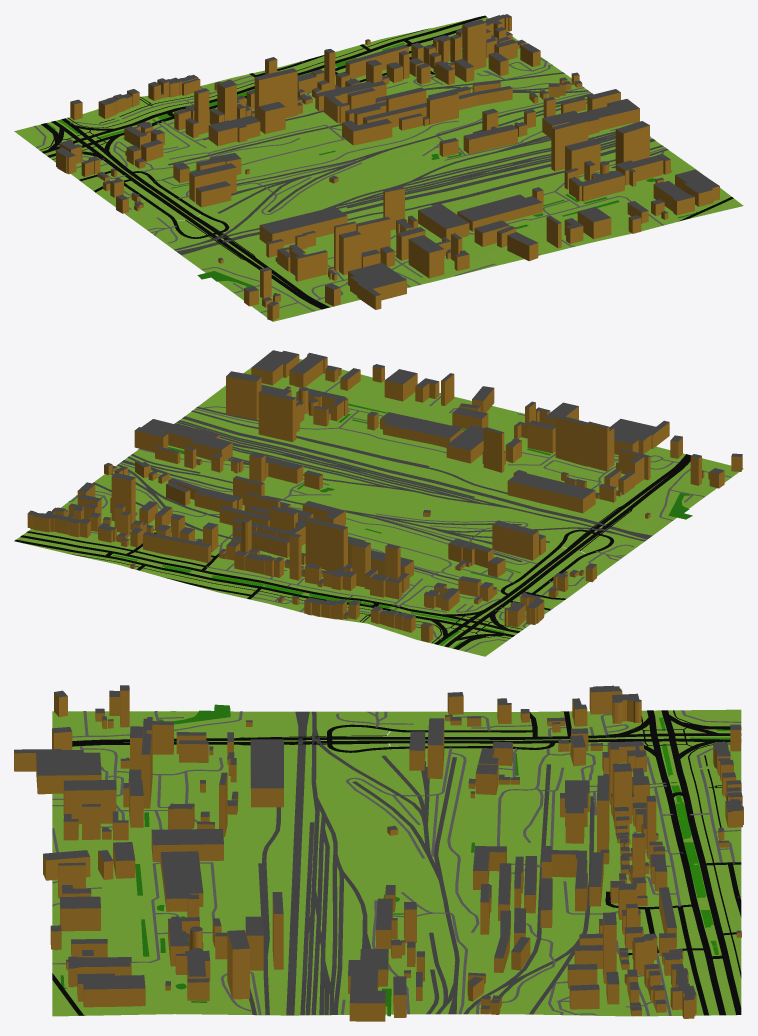
File: tile_01_03.glb
3 views of the same model, one above another, from view 1: azimuth 30°, elevation 25°; view 2: azimuth 150°, elevation 25°; view 3: azimuth 270°, elevation 25° (orthographic). The views are drawn at different scales.
Parts seen in each view (by area): view 1: Ub_small.osm_buildings_01_03, Terrain_01_03, Ub_small.osm_railways_01_03, Ub_small.osm_roads_service_01_03, Ub_small.osm_roads_primary_01_03, Ub_small.osm_roads_trunk_01_03, Ub_small.osm_roads_residential_01_03, Ub_small.osm_paths_footway_01_03, Ub_small.osm_forest_01_03; view 2: Ub_small.osm_buildings_01_03, Terrain_01_03, Ub_small.osm_railways_01_03, Ub_small.osm_roads_service_01_03, Ub_small.osm_roads_trunk_01_03, Ub_small.osm_roads_primary_01_03, Ub_small.osm_roads_residential_01_03, Ub_small.osm_vegetation_01_03, Ub_small.osm_paths_footway_01_03, Ub_small.osm_forest_01_03, Ub_small.osm_roads_unclassified_01_03; view 3: Terrain_01_03, Ub_small.osm_buildings_01_03, Ub_small.osm_railways_01_03, Ub_small.osm_roads_service_01_03, Ub_small.osm_roads_trunk_01_03, Ub_small.osm_roads_primary_01_03, Ub_small.osm_roads_residential_01_03, Ub_small.osm_vegetation_01_03, Ub_small.osm_forest_01_03, Ub_small.osm_paths_footway_01_03, Ub_small.osm_roads_unclassified_01_03.
Part boxes in pixels (bbox=[...]): Ub_small.osm_buildings_01_03: bbox=[56, 14, 719, 320]; Terrain_01_03: bbox=[14, 17, 743, 321]; Ub_small.osm_railways_01_03: bbox=[168, 72, 668, 255]; Ub_small.osm_roads_service_01_03: bbox=[34, 50, 665, 312]; Ub_small.osm_roads_primary_01_03: bbox=[42, 118, 329, 309]; Ub_small.osm_roads_trunk_01_03: bbox=[42, 15, 486, 158]; Ub_small.osm_roads_residential_01_03: bbox=[79, 57, 435, 238]; Ub_small.osm_paths_footway_01_03: bbox=[39, 28, 435, 261]; Ub_small.osm_forest_01_03: bbox=[162, 150, 697, 287]; Ub_small.osm_buildings_01_03: bbox=[27, 350, 742, 642]; Terrain_01_03: bbox=[16, 359, 743, 656]; Ub_small.osm_railways_01_03: bbox=[92, 406, 652, 580]; Ub_small.osm_roads_service_01_03: bbox=[68, 381, 731, 651]; Ub_small.osm_roads_trunk_01_03: bbox=[14, 535, 520, 640]; Ub_small.osm_roads_primary_01_03: bbox=[434, 454, 691, 649]; Ub_small.osm_roads_residential_01_03: bbox=[125, 529, 614, 610]; Ub_small.osm_vegetation_01_03: bbox=[113, 555, 504, 648]; Ub_small.osm_paths_footway_01_03: bbox=[70, 504, 632, 649]; Ub_small.osm_forest_01_03: bbox=[168, 403, 692, 581]; Ub_small.osm_roads_unclassified_01_03: bbox=[26, 531, 250, 595]; Terrain_01_03: bbox=[52, 709, 741, 1016]; Ub_small.osm_buildings_01_03: bbox=[14, 685, 743, 1021]; Ub_small.osm_railways_01_03: bbox=[249, 711, 594, 1015]; Ub_small.osm_roads_service_01_03: bbox=[52, 710, 741, 1015]; Ub_small.osm_roads_trunk_01_03: bbox=[611, 710, 741, 1015]; Ub_small.osm_roads_primary_01_03: bbox=[72, 722, 741, 746]; Ub_small.osm_roads_residential_01_03: bbox=[327, 711, 741, 955]; Ub_small.osm_vegetation_01_03: bbox=[659, 717, 741, 955]; Ub_small.osm_forest_01_03: bbox=[60, 704, 518, 1016]; Ub_small.osm_paths_footway_01_03: bbox=[234, 710, 741, 978]; Ub_small.osm_roads_unclassified_01_03: bbox=[677, 864, 741, 1015].
Bounding box in the file's own units: 1016 × 91.11 × 985.
